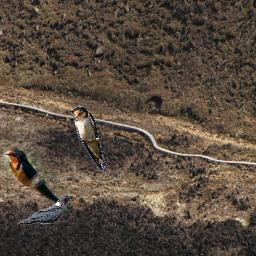Crow: (17, 195, 73, 225)
Swallow: (3, 147, 69, 211), (69, 106, 108, 171)
